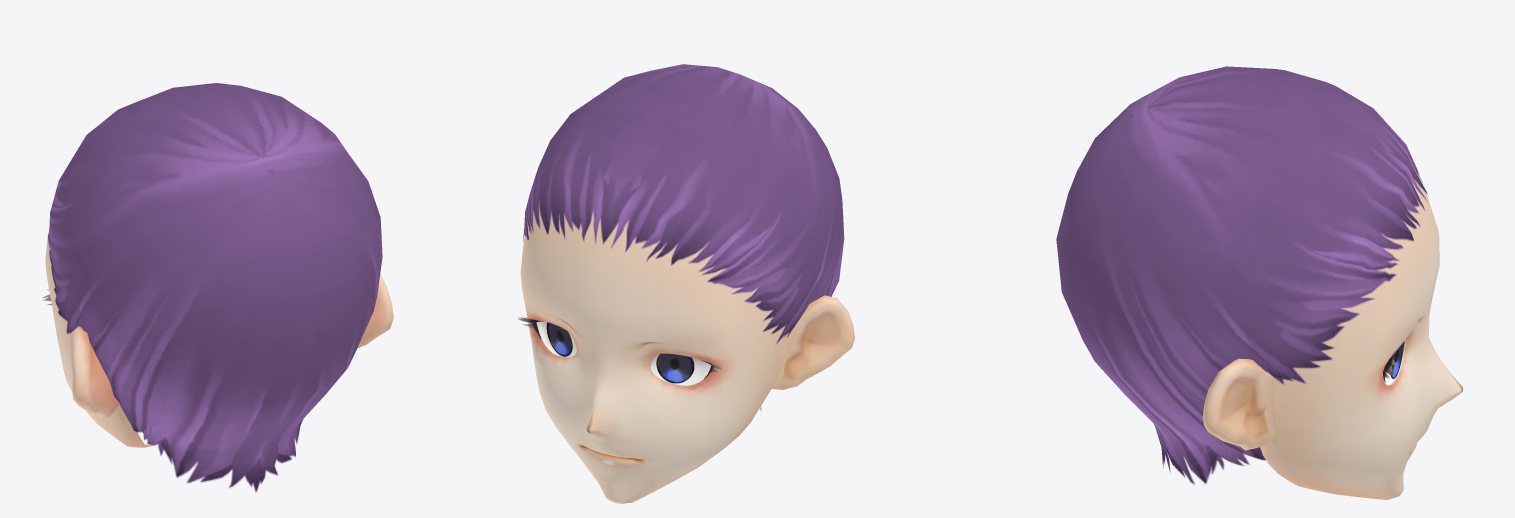
The model's file is sakurada_fumiriya.glb.
3 views of the same model, side by side, from view 1: azimuth 30°, elevation 25°; view 2: azimuth 150°, elevation 25°; view 3: azimuth 270°, elevation 25° (orthographic). The views are drawn at different scales.
Parts seen in each view (by area): view 1: Hair_Body, Facebaked; view 2: Facebaked, Hair_Body; view 3: Hair_Body, Facebaked.
Boxes of the visible parts, x1,y1,x2,y2 form: Hair_Body: (48,83,382,492); Facebaked: (42,229,393,447); Facebaked: (518,202,854,503); Hair_Body: (523,64,844,415); Hair_Body: (1056,66,1427,484); Facebaked: (1202,166,1462,499).
Size of the model in its own units: 0.2573 by 0.2848 by 0.3179.
12 materials, 12 textured.
